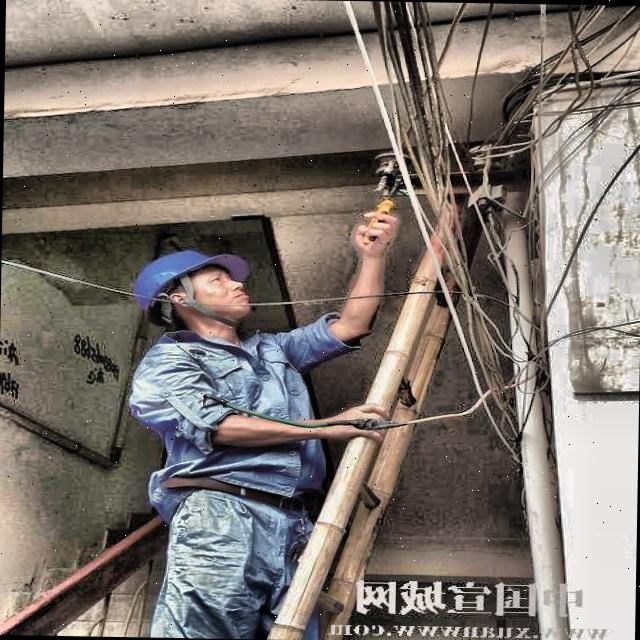helmet: (122, 244, 268, 336)
